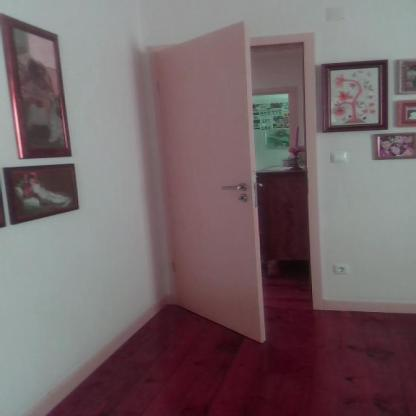door: (138, 16, 330, 351)
